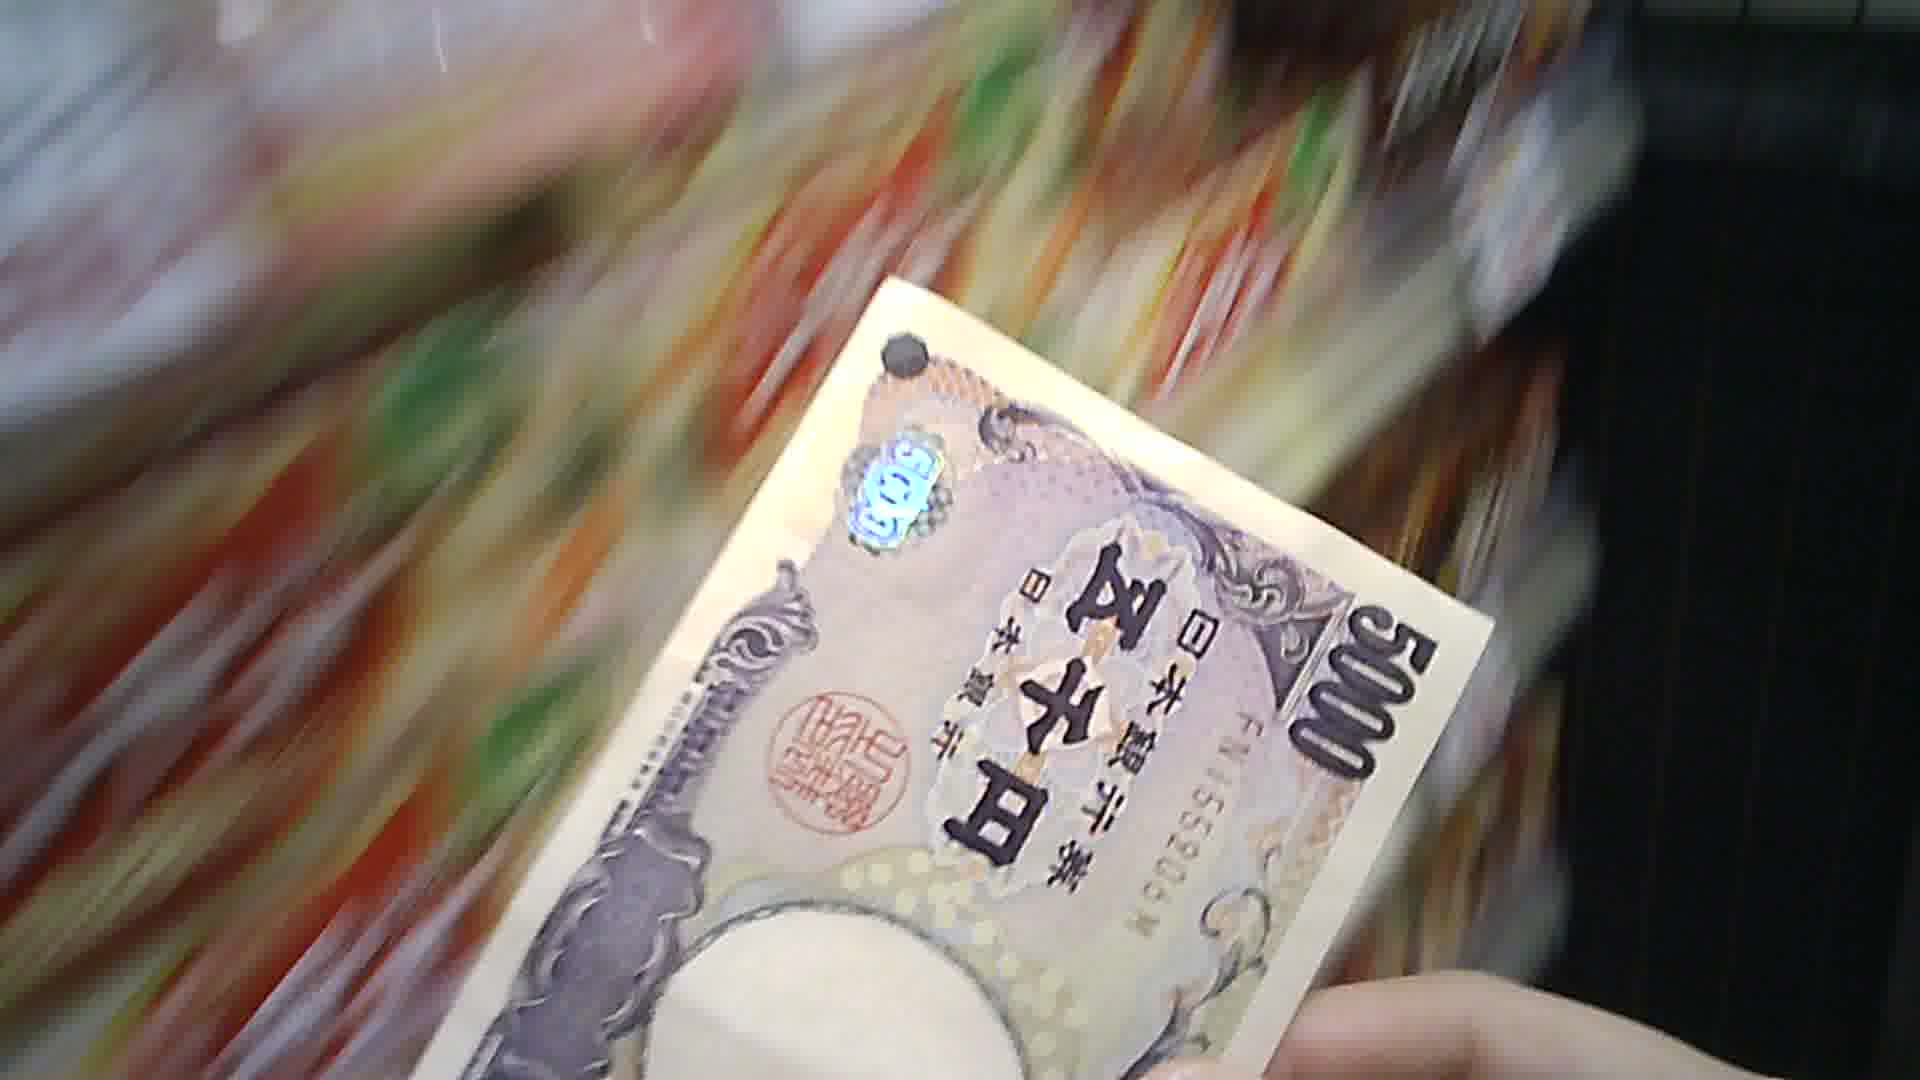5,000 Yen: (423, 249, 1465, 1063)
